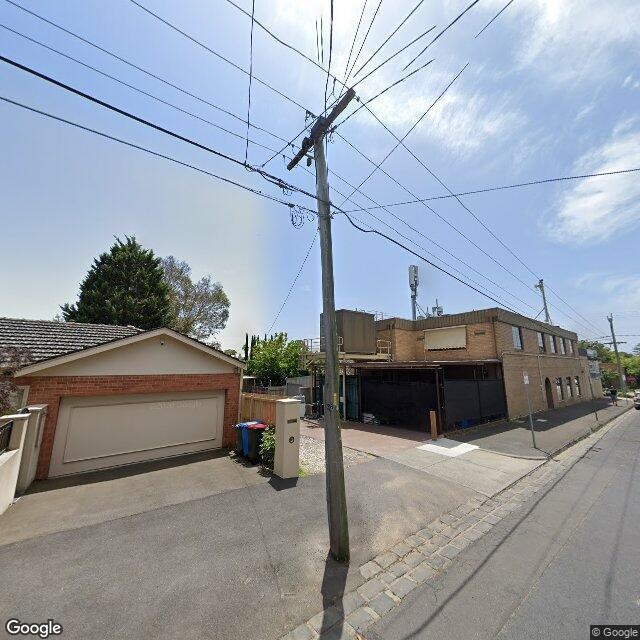crossarm: (286, 88, 356, 170), (604, 342, 628, 344)
timber-pole: (312, 124, 349, 564), (609, 318, 625, 391), (539, 281, 549, 323)
